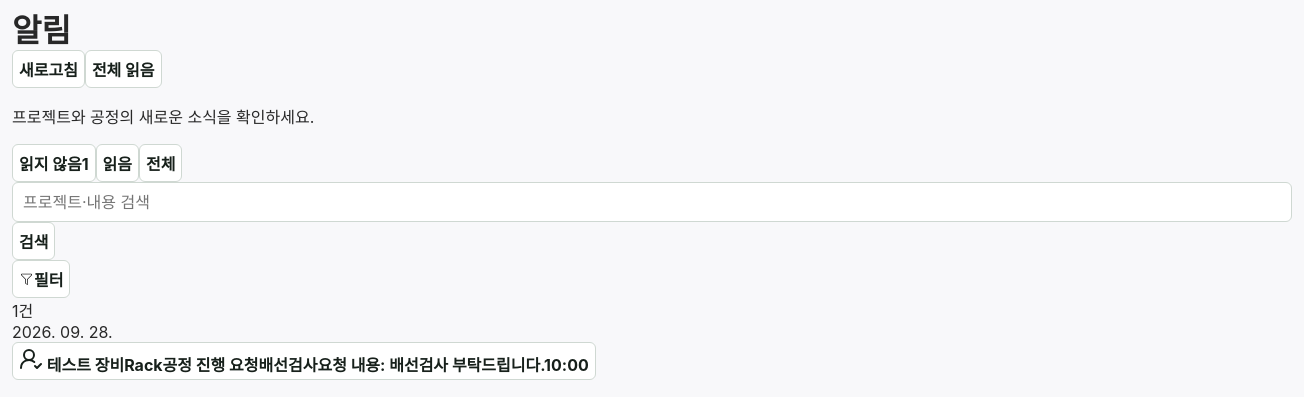
Scenario: Osan notification C › clears old rows when a different tab fails to load
Expected: the text "테스트 장비" is shown, [47,355,124,375]
Click the tab "읽음".
click(117, 163)  # box [96,144,139,182]
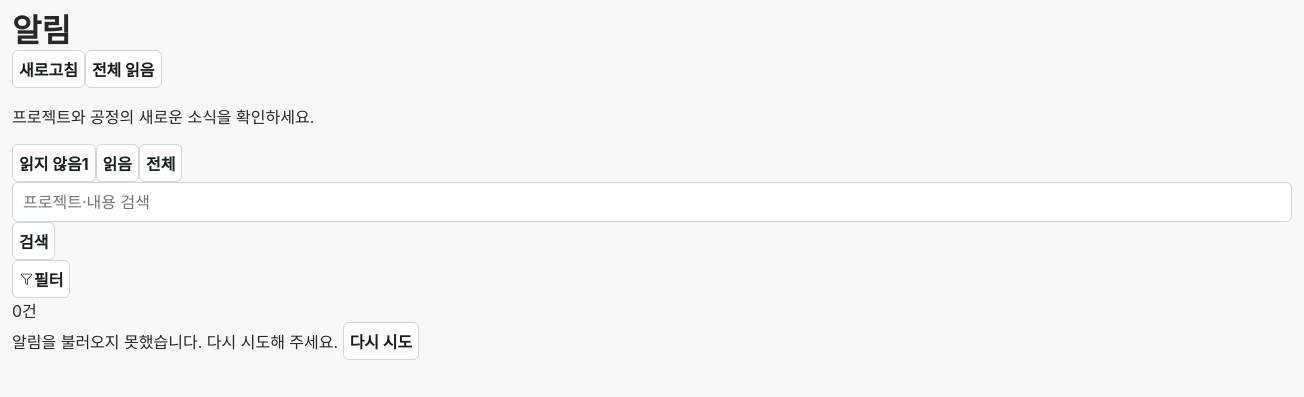
Expected: the message "알림을 불러오지 못했습니다. 다시 시도해 주세요. 다시 시도" is shown, [12,322,419,360]
Expected: the button "테스트 장비" is gone
